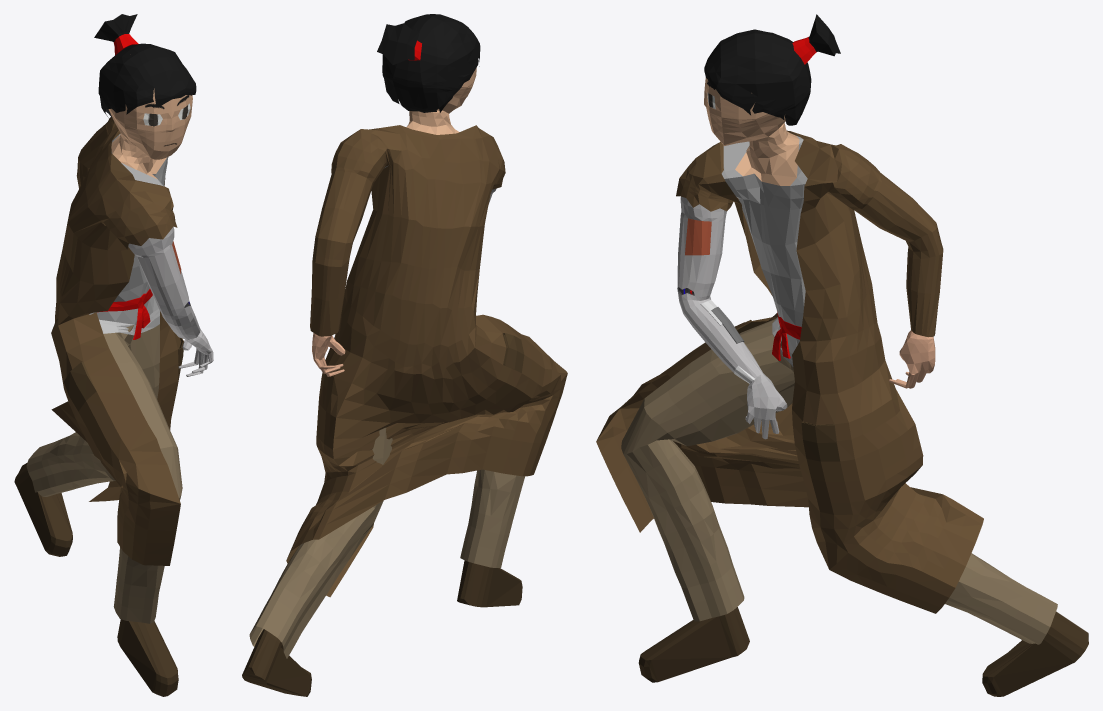
File: OneAnimationTest_000002.obj
3 renders of one model, left to right at view 1: azimuth 30°, elevation 25°; view 2: azimuth 150°, elevation 25°; view 3: azimuth 270°, elevation 25°, orthographic. The views are drawn at different scales.
Parts seen in each view (by area): view 1: Jacket_Cube, Body_Cube.003, Hair_Cube.004; view 2: Jacket_Cube, Body_Cube.003, Hair_Cube.004; view 3: Jacket_Cube, Body_Cube.003, Hair_Cube.004.
Boxes of the visible parts, x1,y1,x2,y2 form: Jacket_Cube: (51,117,183,565); Body_Cube.003: (14,88,213,696); Hair_Cube.004: (94,14,196,117); Jacket_Cube: (286,125,567,597); Body_Cube.003: (242,67,524,696); Hair_Cube.004: (377,14,480,112); Jacket_Cube: (596,130,983,613); Body_Cube.003: (621,77,1088,696); Hair_Cube.004: (704,14,840,125).
Bounding box in the file's own units: 0.8933 × 3.58 × 2.36.
